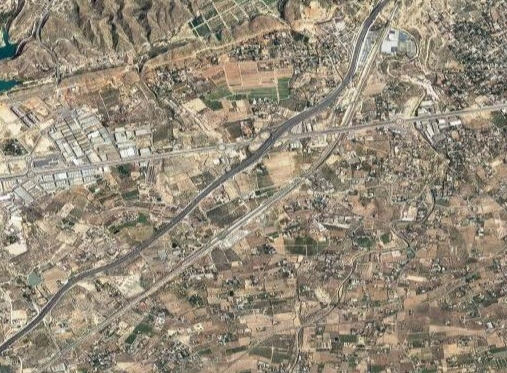industrial: (7, 110, 146, 192)
motorway: (1, 260, 115, 352), (199, 118, 288, 197), (336, 1, 399, 102), (117, 193, 199, 262), (117, 261, 188, 326), (201, 198, 276, 256), (290, 133, 342, 191), (412, 98, 507, 122), (287, 92, 334, 132), (335, 111, 412, 134), (153, 145, 199, 160), (100, 152, 146, 167)
